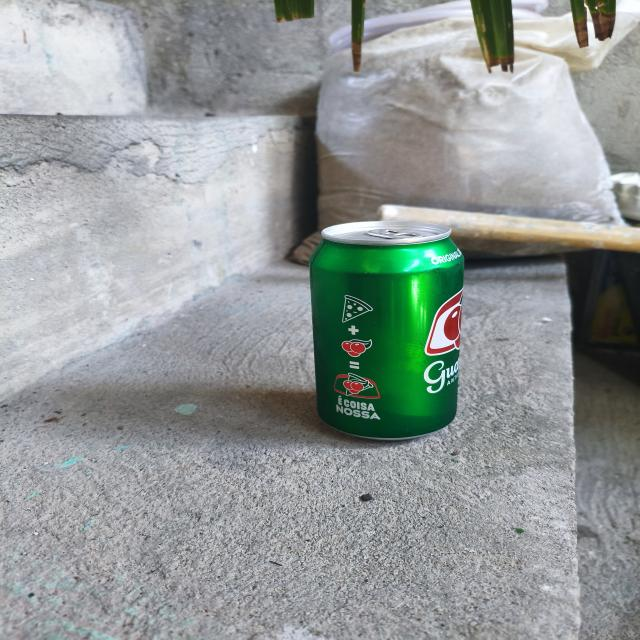Guarana: (296, 215, 488, 449)
